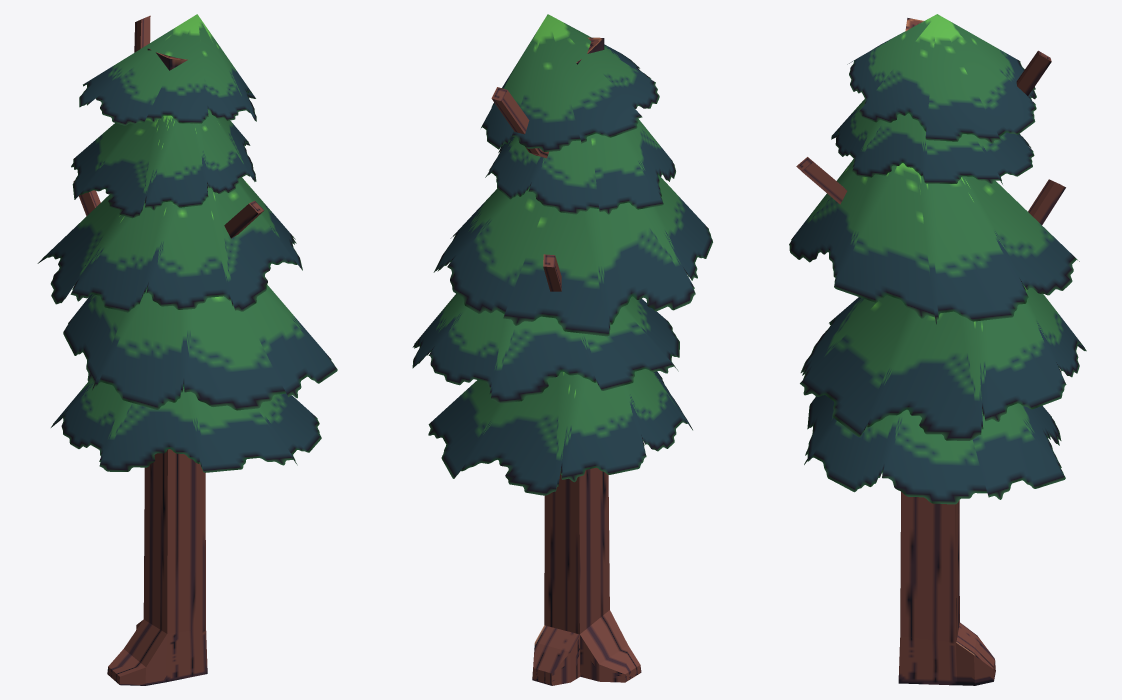
Rendered from ArvoreGrande.fbx.
3 renders of one model, left to right at view 1: azimuth 30°, elevation 25°; view 2: azimuth 150°, elevation 25°; view 3: azimuth 270°, elevation 25°, orthographic. The views are drawn at different scales.
Visible parts, largest first — view 1: ArvoreGrande; view 2: ArvoreGrande; view 3: ArvoreGrande.
Part boxes in pixels (box(x1,y1,x2,y2)): ArvoreGrande: box(37, 14, 337, 685); ArvoreGrande: box(412, 14, 712, 685); ArvoreGrande: box(789, 14, 1086, 685).
Bounding box in the file's own units: 198 × 413 × 188.
